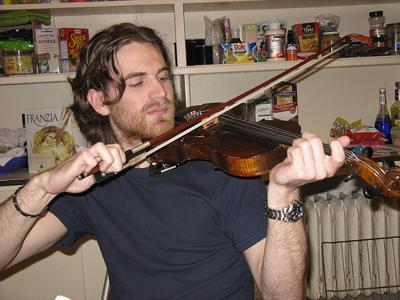person: (2, 24, 353, 300)
